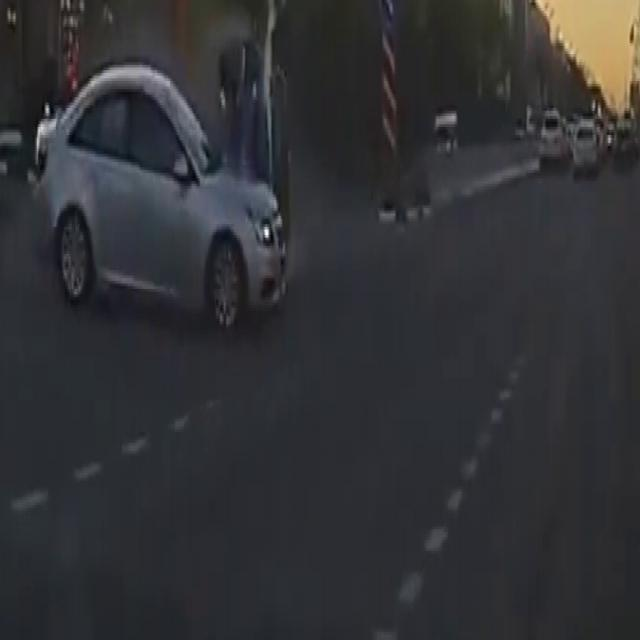accident: (43, 17, 323, 336)
